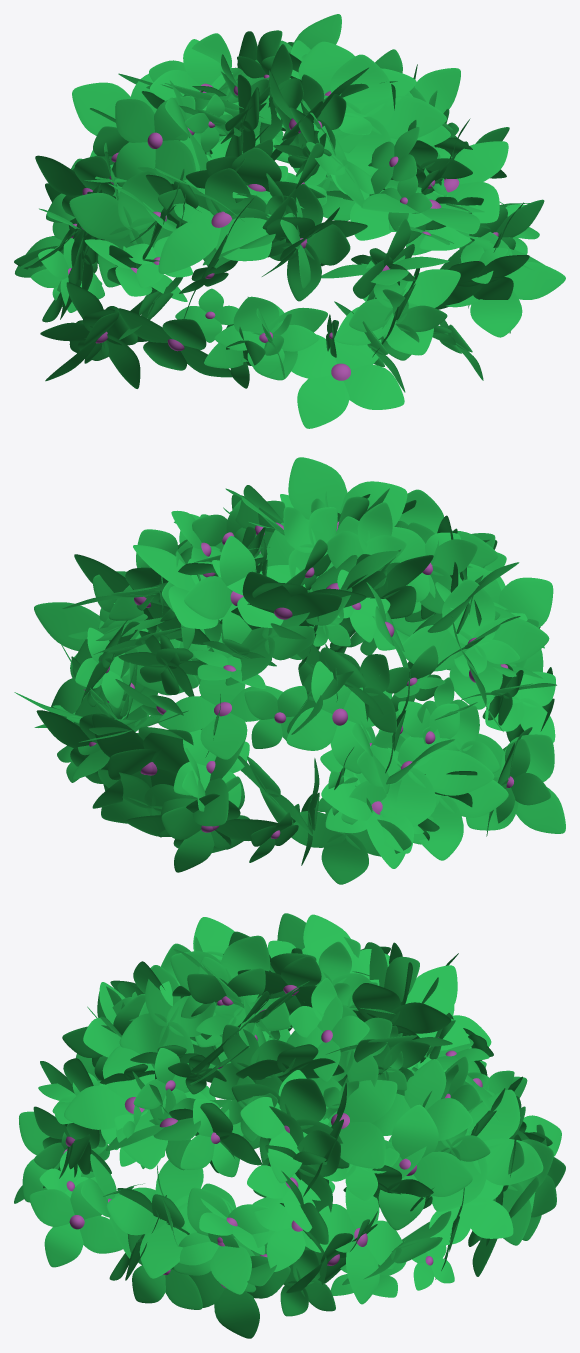
File: Куст_2.fbx
The picture shows the model from 3 angles, top to bottom: view 1: azimuth 30°, elevation 25°; view 2: azimuth 150°, elevation 25°; view 3: azimuth 270°, elevation 25°; orthographic projection. The views are drawn at different scales.
Visible parts, largest first — view 1: Sphere|Цветок|Dupli|108; view 2: Sphere|Цветок|Dupli|108; view 3: Sphere|Цветок|Dupli|108.
Boxes of the visible parts, x1,y1,x2,y2 form: Sphere|Цветок|Dupli|108: [14, 14, 565, 428]; Sphere|Цветок|Dupli|108: [14, 457, 565, 884]; Sphere|Цветок|Dupli|108: [14, 913, 565, 1338].
Size of the model in its own units: 257 by 144 by 242.
